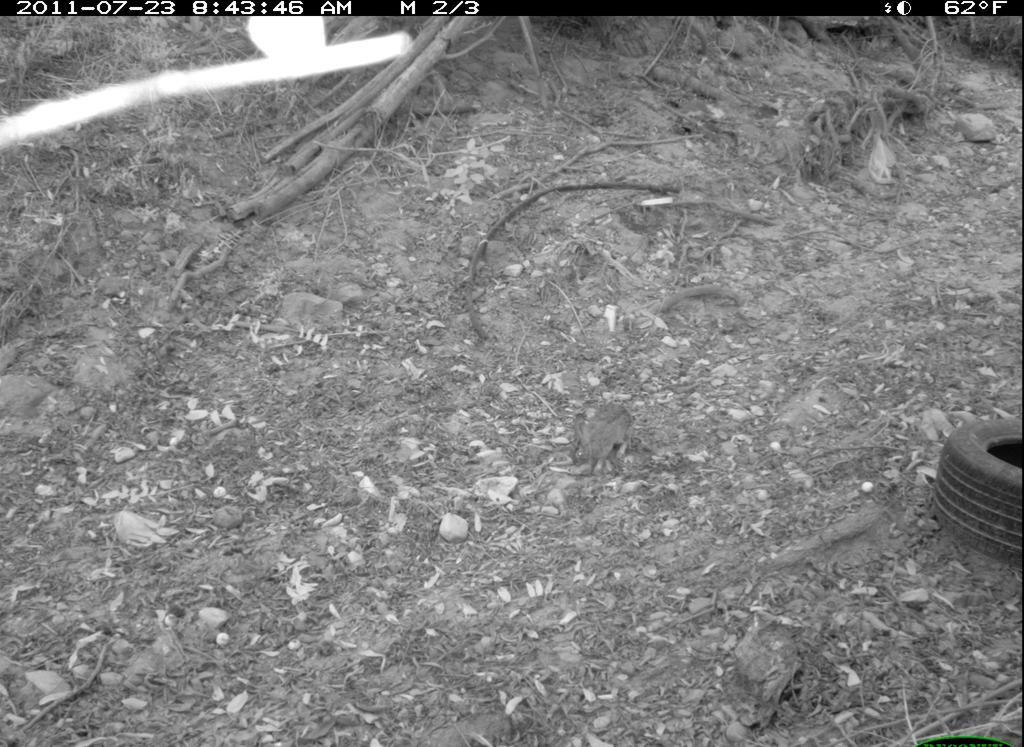rabbit: (560, 396, 647, 487)
